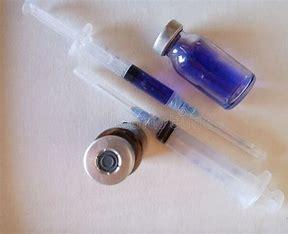Syringe: (65, 66, 278, 212), (151, 15, 266, 112), (82, 120, 150, 192)
